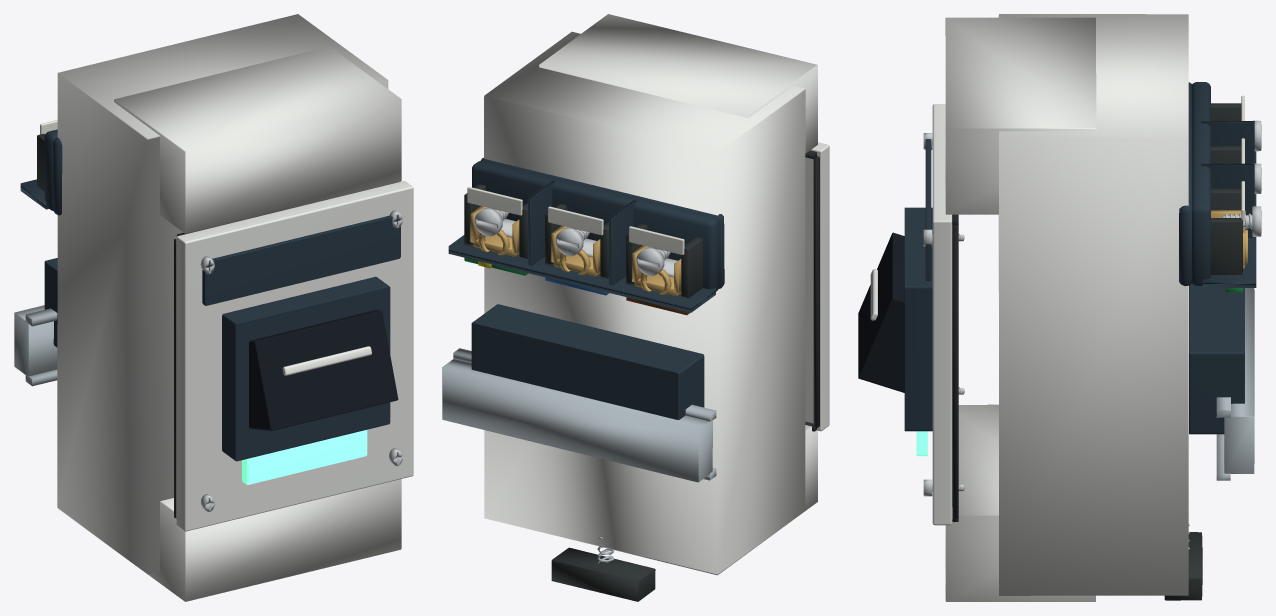
The model's file is spd_default.low.glb.
The picture shows the model from 3 angles, left to right: view 1: azimuth 30°, elevation 25°; view 2: azimuth 150°, elevation 25°; view 3: azimuth 270°, elevation 25°; orthographic projection. The views are drawn at different scales.
Visible parts, largest first — view 1: part:body · Original 7dbee62c, part:cover, motion:toggle, part:body.001, part:mounting · Original 2a8198d3, part:terminals · Original a463fd81, detail:enclosure-gasket-and-fixings · Detail rubber gasket, part:body, detail:enclosure-gasket-and-fixings · Detail zinc plated fix; view 2: part:body · Original 7dbee62c, part:mounting · Original 2a8198d3, part:body, part:terminals · Original a463fd81, part:cover, DIN spring slider, detail:enclosure-gasket-and-fixings · Detail rubber gasket, detail:terminal-clamp:L · Detail moulded engineering polymer, detail:terminal-clamp:PE · Detail machined brass, detail:terminal-clamp:L · Detail machined brass, detail:terminal-clamp:N · Detail machined brass, detail:terminal-clamp:PE · Detail moulded engineering polyme (+7 smaller); view 3: part:body · Original 7dbee62c, part:cover, part:terminals · Original a463fd81, part:body, part:body.001, motion:toggle, part:mounting · Original 2a8198d3, detail:terminal-clamp:PE · Detail moulded engineering polyme, detail:enclosure-gasket-and-fixings · Detail rubber gasket, DIN spring slider, detail:enclosure-gasket-and-fixings · Detail zinc plated fix, detail:terminal-clamp:L · Detail moulded engineering polymer (+1 smaller).
Boxes of the visible parts, x1,y1,x2,y2 form: part:body · Original 7dbee62c: [57, 14, 401, 601]; part:cover: [176, 181, 413, 531]; motion:toggle: [249, 310, 398, 430]; part:body.001: [222, 276, 390, 461]; part:mounting · Original 2a8198d3: [14, 305, 57, 386]; part:terminals · Original a463fd81: [20, 129, 62, 215]; detail:enclosure-gasket-and-fixings · Detail rubber gasket: [174, 183, 394, 518]; part:body: [44, 258, 57, 347]; detail:enclosure-gasket-and-fixings · Detail zinc plated fix: [200, 210, 402, 511]; part:body · Original 7dbee62c: [484, 14, 817, 575]; part:mounting · Original 2a8198d3: [442, 348, 716, 482]; part:body: [471, 304, 704, 419]; part:terminals · Original a463fd81: [448, 157, 724, 312]; part:cover: [805, 142, 829, 431]; DIN spring slider: [551, 547, 655, 601]; detail:enclosure-gasket-and-fixings · Detail rubber gasket: [805, 150, 819, 431]; detail:terminal-clamp:L · Detail moulded engineering polymer: [626, 223, 702, 298]; detail:terminal-clamp:PE · Detail machined brass: [470, 206, 519, 256]; detail:terminal-clamp:L · Detail machined brass: [632, 245, 681, 296]; detail:terminal-clamp:N · Detail machined brass: [551, 225, 600, 276]; detail:terminal-clamp:PE · Detail moulded engineering polyme: [464, 184, 527, 259]; part:body · Original 7dbee62c: [945, 14, 1188, 601]; part:cover: [916, 104, 952, 525]; part:terminals · Original a463fd81: [1179, 82, 1256, 287]; part:body: [1189, 284, 1244, 434]; part:body.001: [904, 207, 932, 431]; motion:toggle: [858, 232, 904, 392]; part:mounting · Original 2a8198d3: [1216, 288, 1254, 480]; detail:terminal-clamp:PE · Detail moulded engineering polyme: [1211, 188, 1244, 274]; detail:enclosure-gasket-and-fixings · Detail rubber gasket: [952, 214, 958, 521]; DIN spring slider: [1164, 532, 1202, 600]; detail:enclosure-gasket-and-fixings · Detail zinc plated fix: [923, 133, 964, 496]; detail:terminal-clamp:L · Detail moulded engineering polymer: [1211, 103, 1241, 120].
Bounding box in the file's own units: 0.5406 × 0.9358 × 0.6776.
